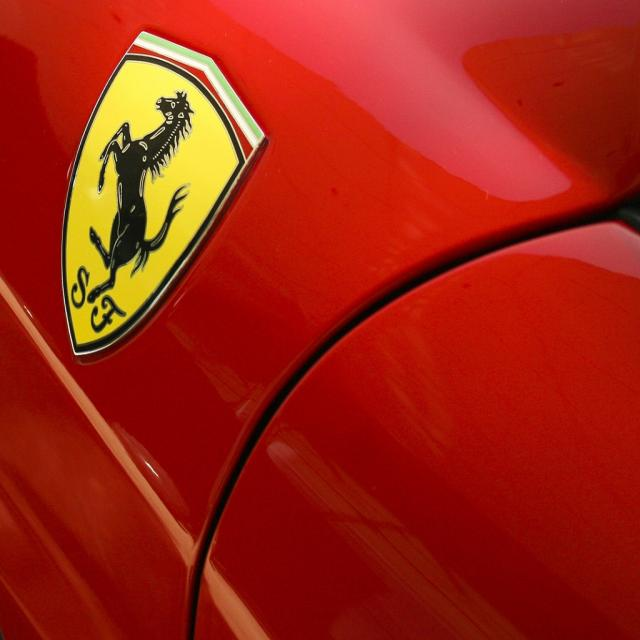ferrari: (60, 30, 269, 358)
